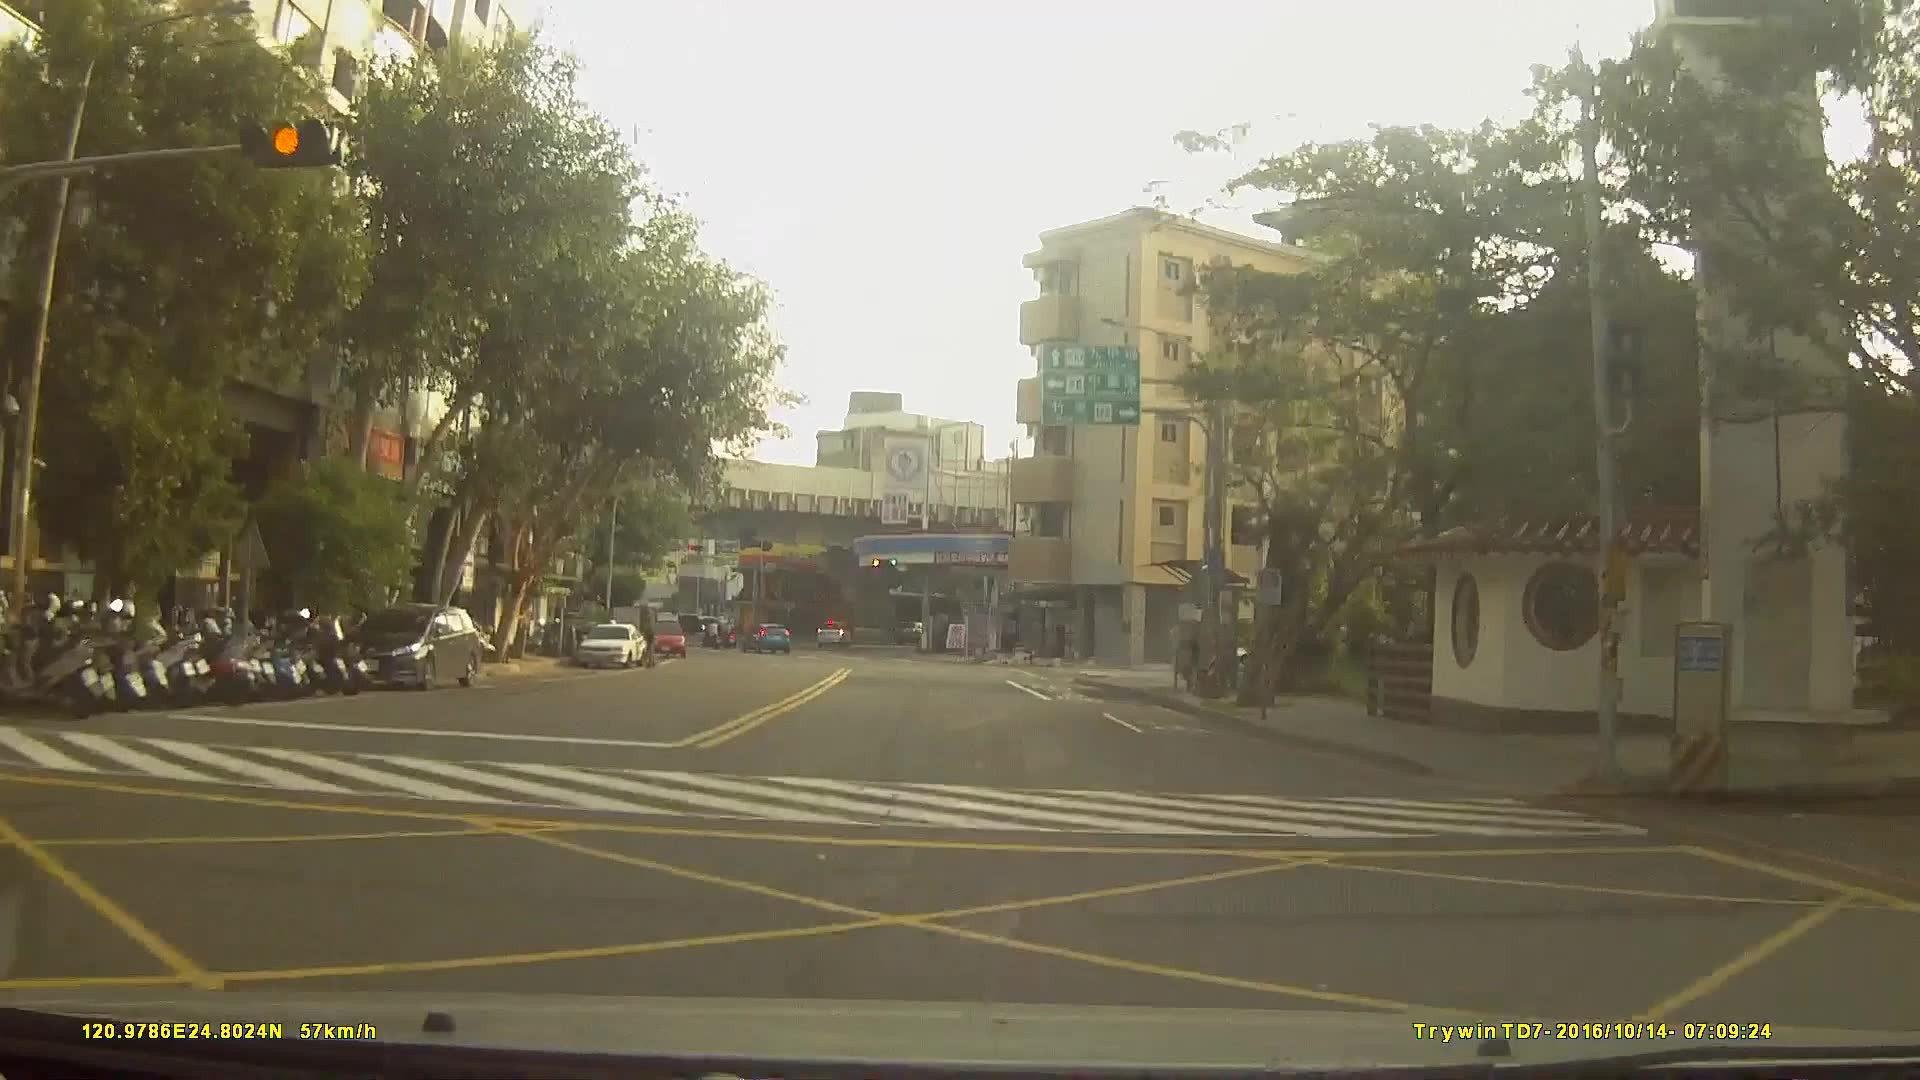vehicle: (338, 599, 484, 692), (574, 617, 647, 666), (645, 615, 688, 655), (741, 618, 789, 650), (815, 618, 853, 647)
